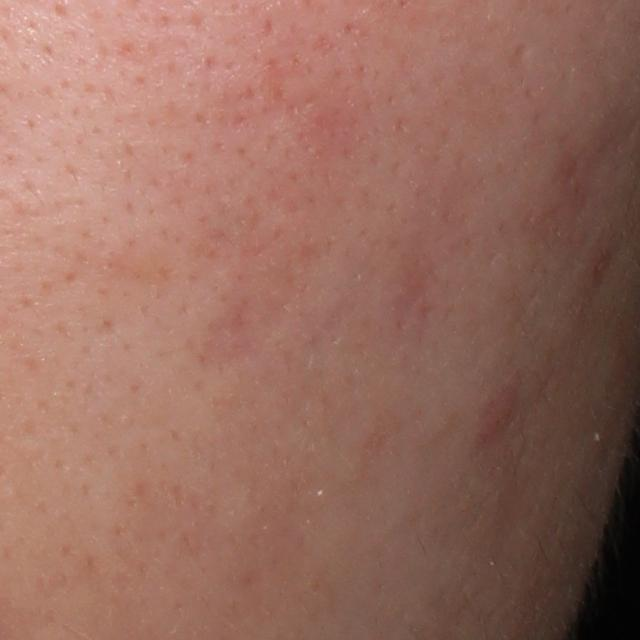papule: (478, 377, 523, 441)
